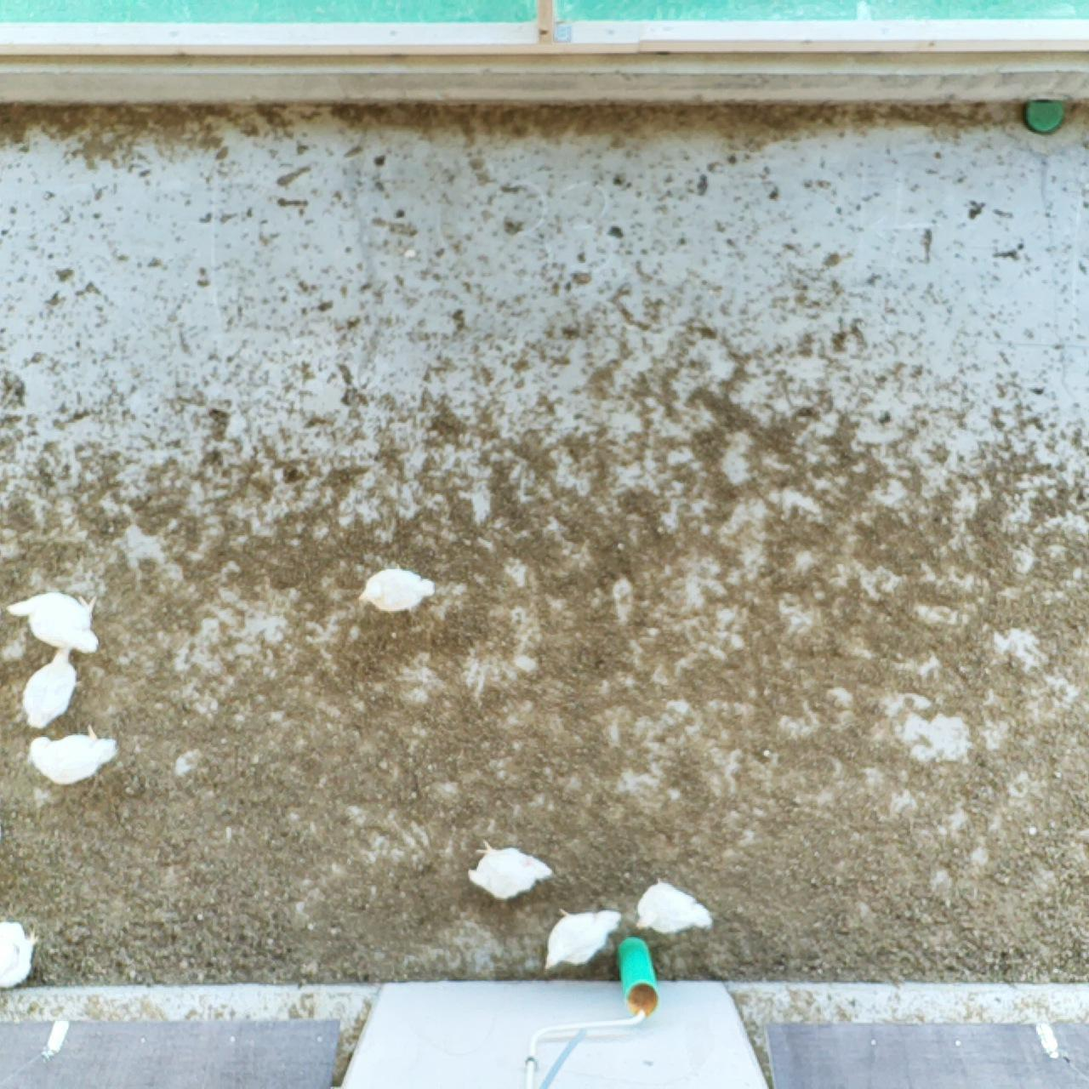chicken: (4, 586, 100, 656), (26, 723, 120, 788), (468, 837, 556, 902), (631, 873, 715, 937), (20, 643, 81, 731), (543, 905, 623, 972), (354, 568, 436, 616), (0, 916, 41, 993)
